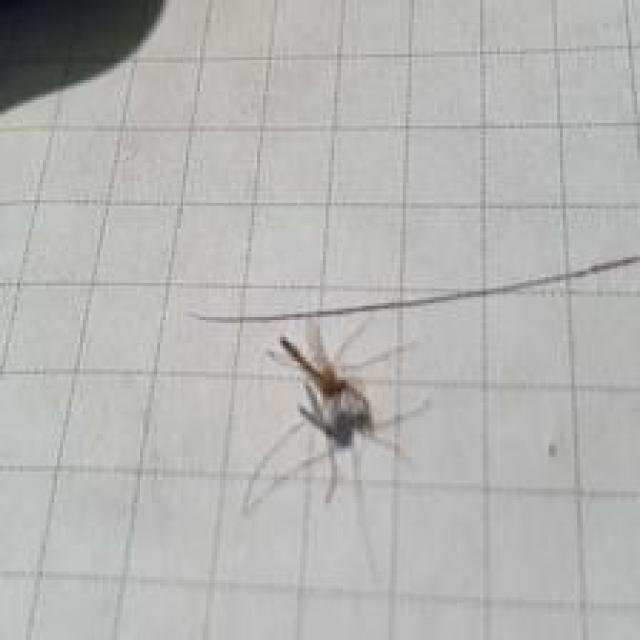Culex: (241, 313, 433, 513)
